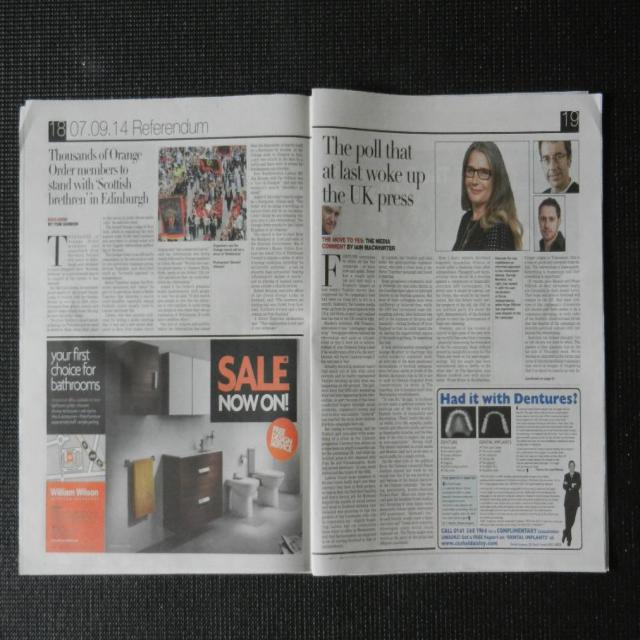Glasses: (461, 165, 495, 182), (538, 151, 568, 164)
